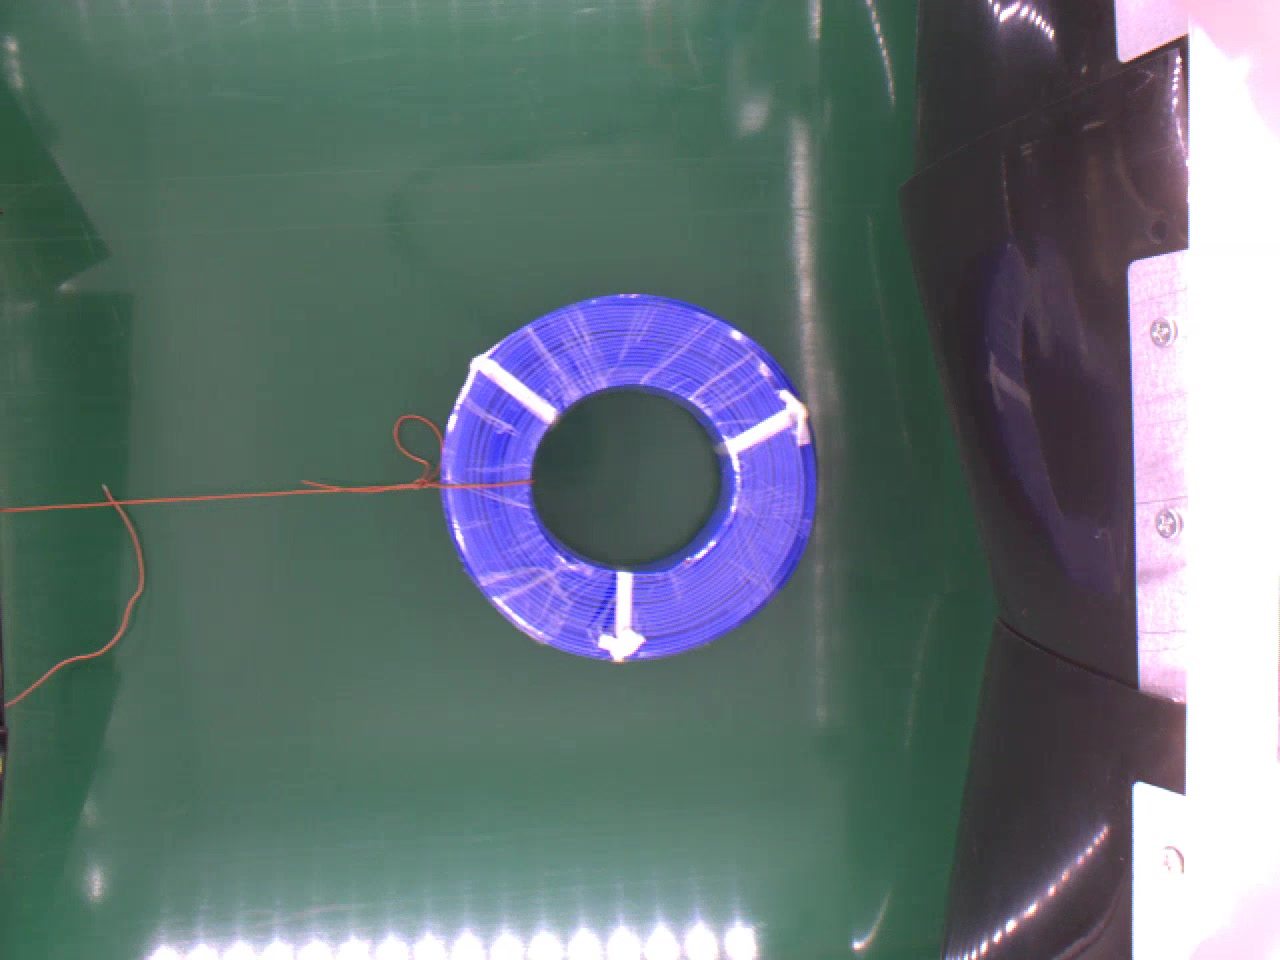blue: (437, 288, 820, 666)
